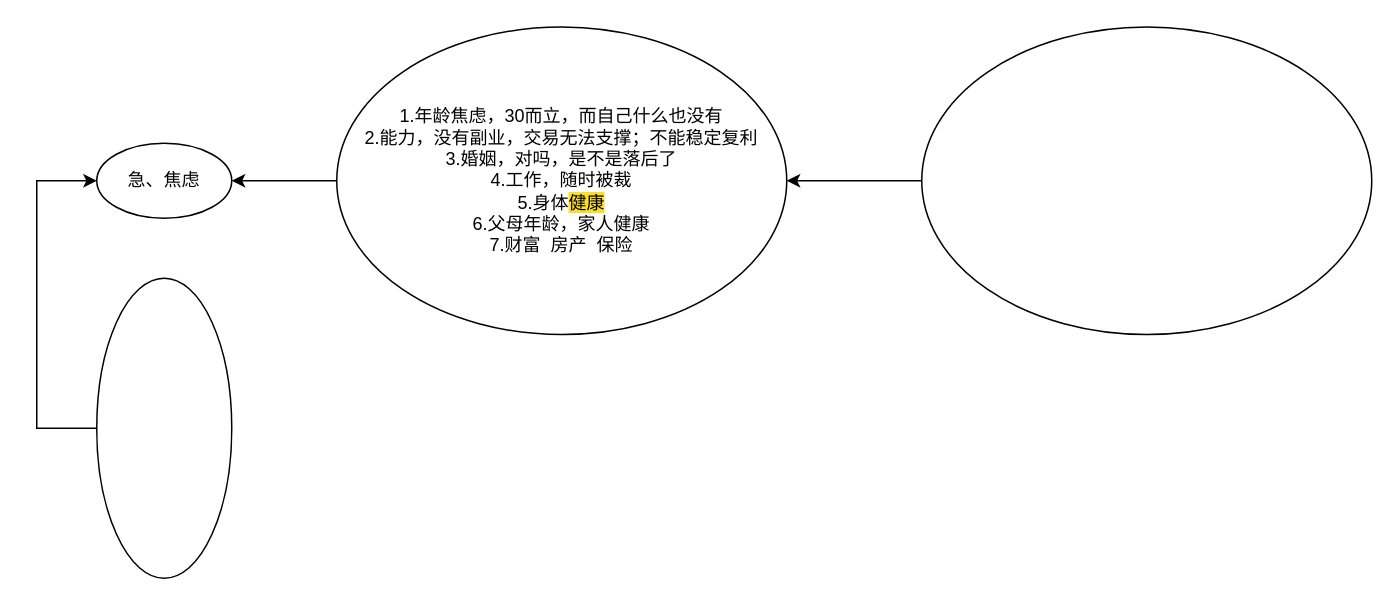
Image size: 1398x605. Some labels were removed from this diagram. Here are the shapes that lost their labels. From the top down, the centre of each, then its label:
At [1146,180]: "1.觉醒太晚 2022/23年(职业规划、婚姻、健康) 2.经济下行、通缩 3.A计划失败 哥；启动B计划".
At [163,427]: "1.戾气重 2.身体压力 3.开车急 4.交易急，想赚快钱，不能稳定".
